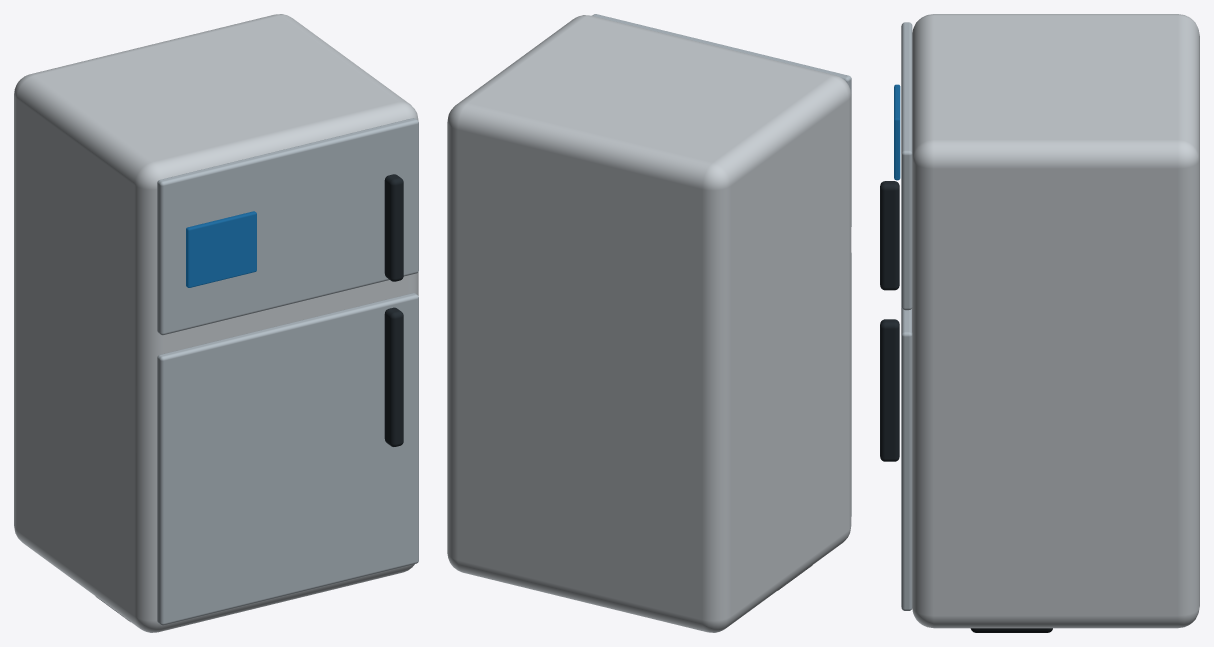
The model's file is refrigerator.glb.
3 views of the same model, side by side, from view 1: azimuth 30°, elevation 25°; view 2: azimuth 150°, elevation 25°; view 3: azimuth 270°, elevation 25° (orthographic). The views are drawn at different scales.
Visible parts, largest first — view 1: Brushed steel refrigerator, Refrigerator door, Freezer door, Temperature display, Refrigerator handle, Freezer handle; view 2: Brushed steel refrigerator, Freezer door; view 3: Brushed steel refrigerator, Refrigerator door, Freezer door, Refrigerator handle, Freezer handle, Temperature display.
Boxes of the visible parts, x1,y1,x2,y2 form: Brushed steel refrigerator: (14,14,418,632); Refrigerator door: (157,293,418,625); Freezer door: (157,118,418,335); Temperature display: (186,211,256,287); Refrigerator handle: (384,307,403,446); Freezer handle: (384,174,403,281); Brushed steel refrigerator: (447,15,851,632); Freezer door: (592,14,851,226); Brushed steel refrigerator: (912,14,1199,628); Refrigerator door: (901,307,912,610); Freezer door: (901,22,912,310); Refrigerator handle: (880,319,899,461); Freezer handle: (880,181,899,290); Temperature display: (894,84,900,180).
Size of the model in its own units: 1.38 by 2.23 by 1.31.
